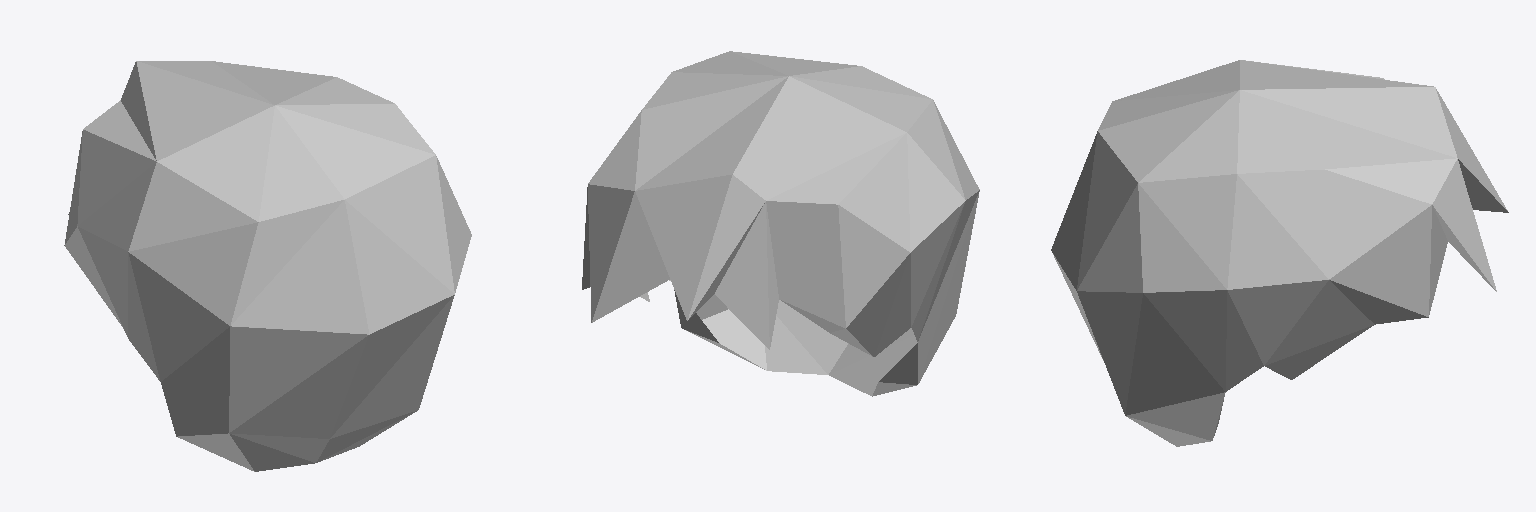
Rendered from GenMaleHair01.obj.
3 views of the same model, side by side, from view 1: azimuth 30°, elevation 25°; view 2: azimuth 150°, elevation 25°; view 3: azimuth 270°, elevation 25° (orthographic).
Parts seen in each view (by area): view 1: material_0; view 2: material_0; view 3: material_0.
Boxes of the visible parts, <box> form: material_0: <box>64,61,471,471</box>; material_0: <box>582,51,979,396</box>; material_0: <box>1051,60,1508,446</box>.
Bounding box in the file's own units: 21.45 × 20.85 × 26.14.